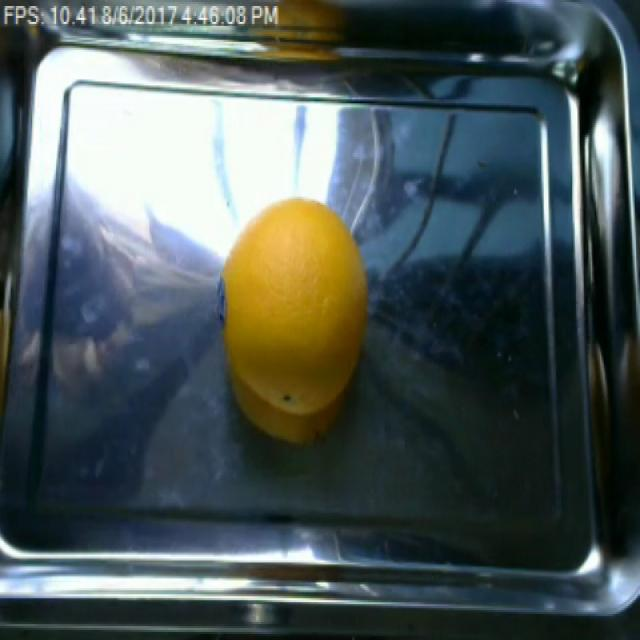Fruit: (217, 189, 372, 449)
